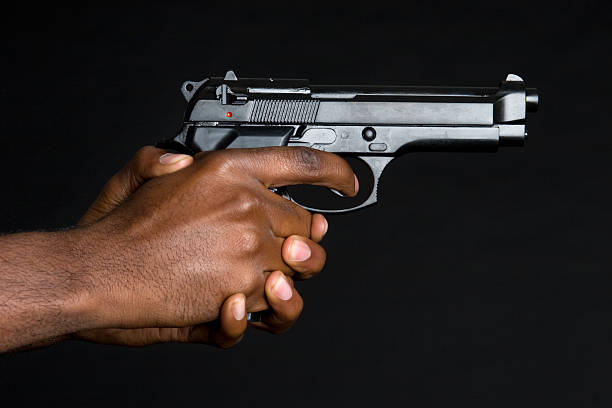gun: (105, 44, 568, 356)
